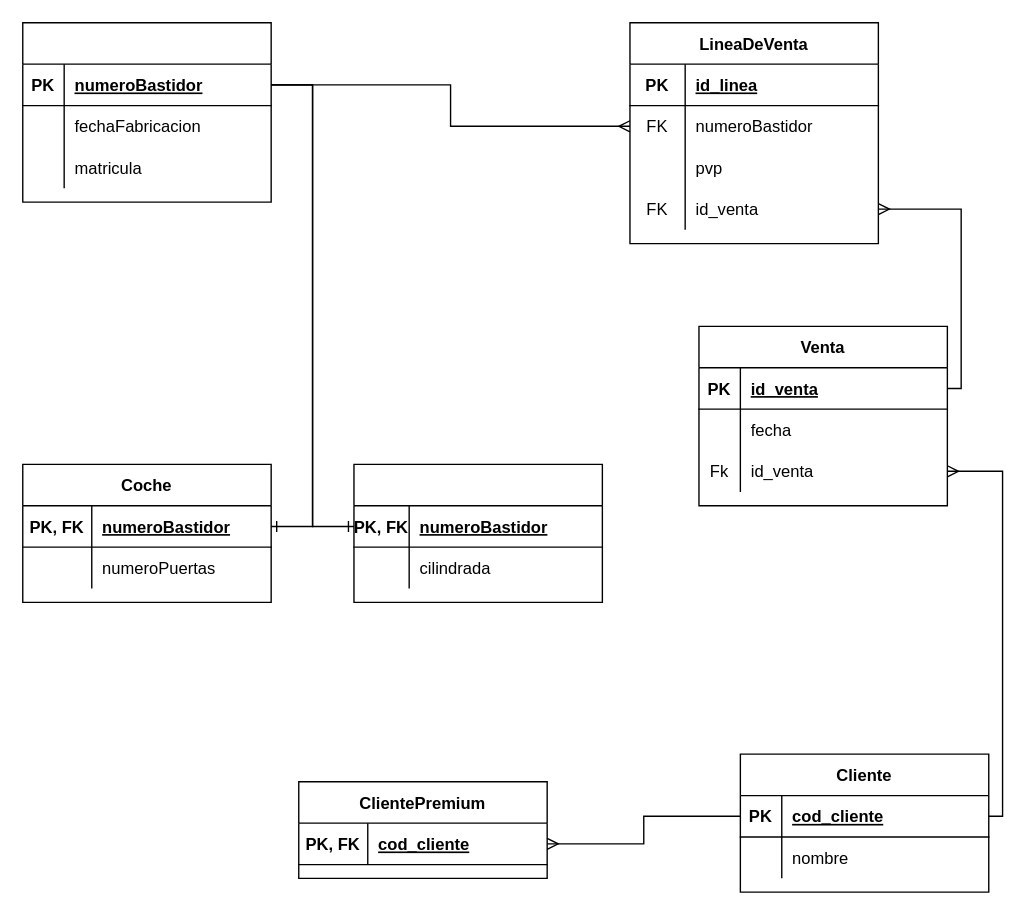
This 1025x915 diagram has some shape labels left out. The box of each missing label's shape, as (x1, y1, x2, y2) in pixels:
Motocicleta: (353, 463, 602, 602)
Vehiculo: (21, 21, 271, 202)
